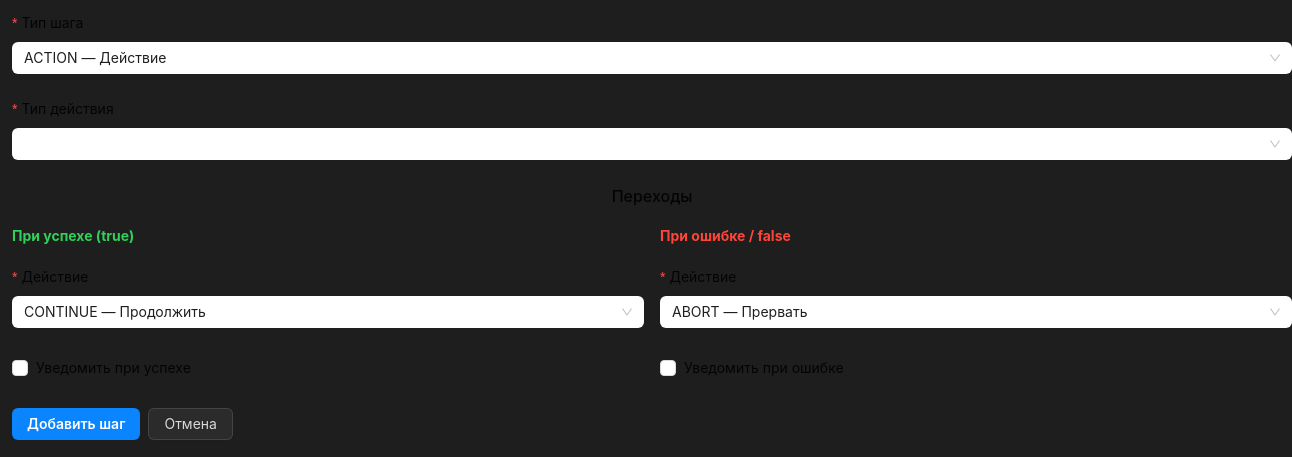
Scenario: StepForm › переключение на EVALUATE: показывает поле «Тип критерия»
Click the dropdown labelled "Тип шага".
click(55, 23)  # box [12, 12, 98, 34]
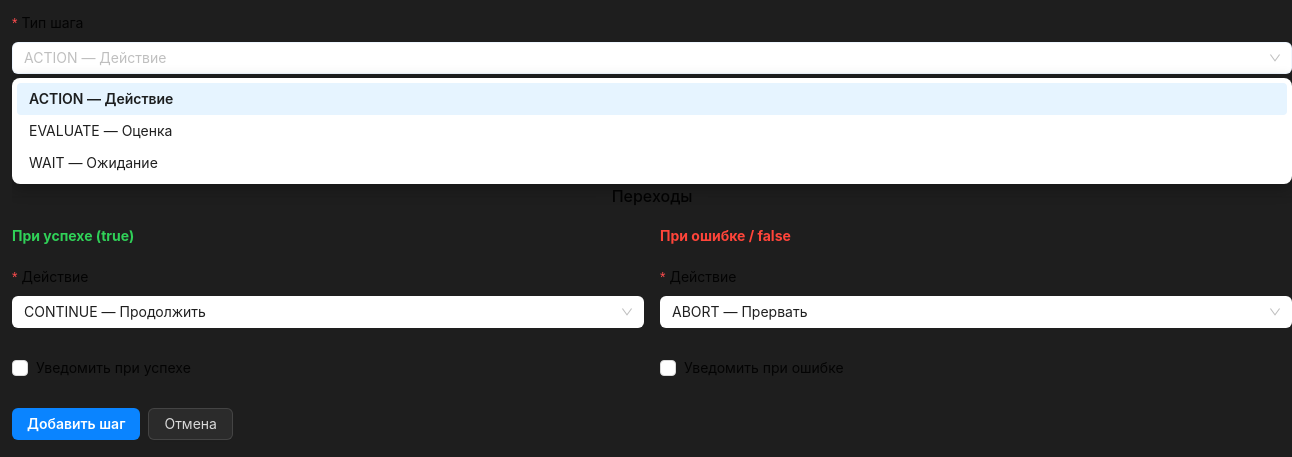
Result: the text "EVALUATE — Оценка" is shown
Click the text "EVALUATE — Оценка".
click(101, 130)  # box [29, 122, 172, 139]
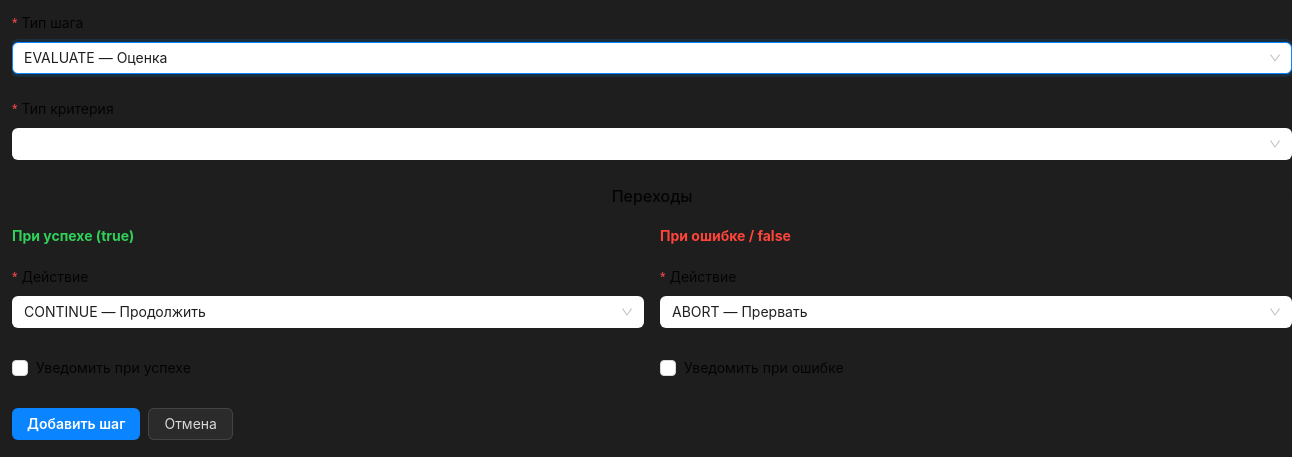
Result: the search field "Тип критерия" is shown at [12, 98, 128, 120]
Result: the search field "Тип действия" is gone
